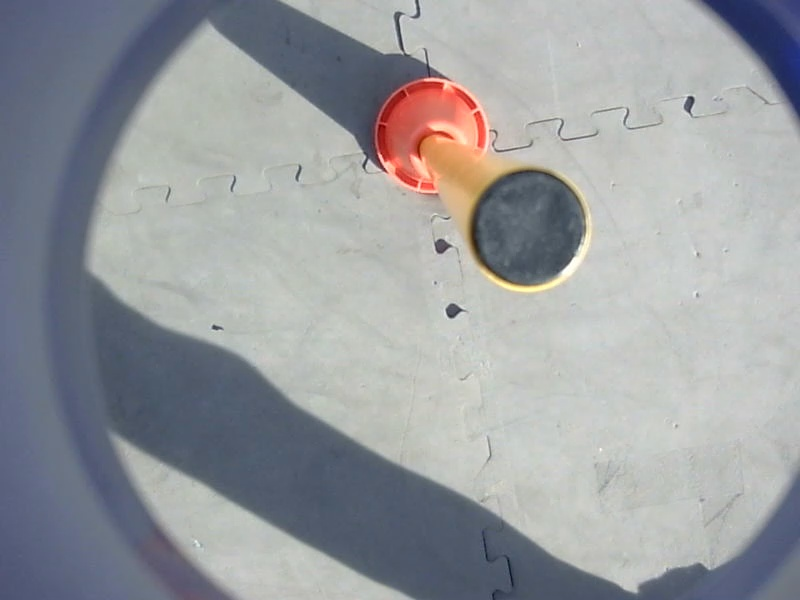tip: (459, 162, 596, 300)
